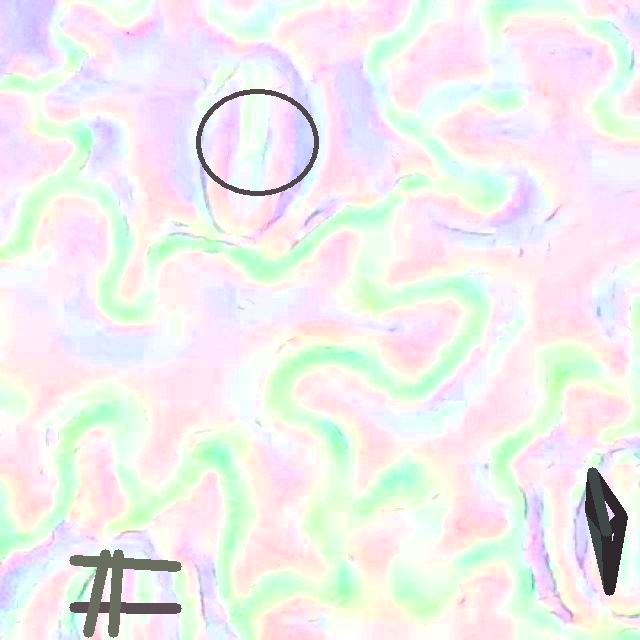open: (195, 88, 318, 195), (70, 549, 180, 637), (586, 468, 626, 594)
